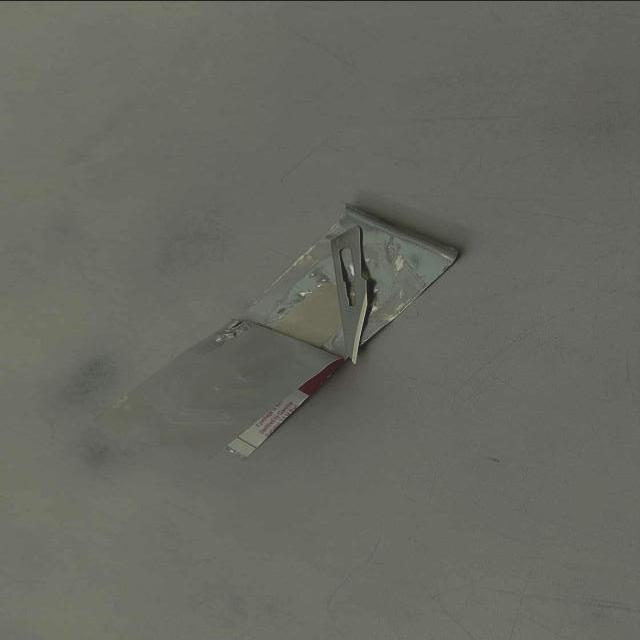General: (89, 201, 462, 464)
Sharps: (223, 224, 373, 461), (224, 356, 346, 460), (329, 224, 370, 365)
